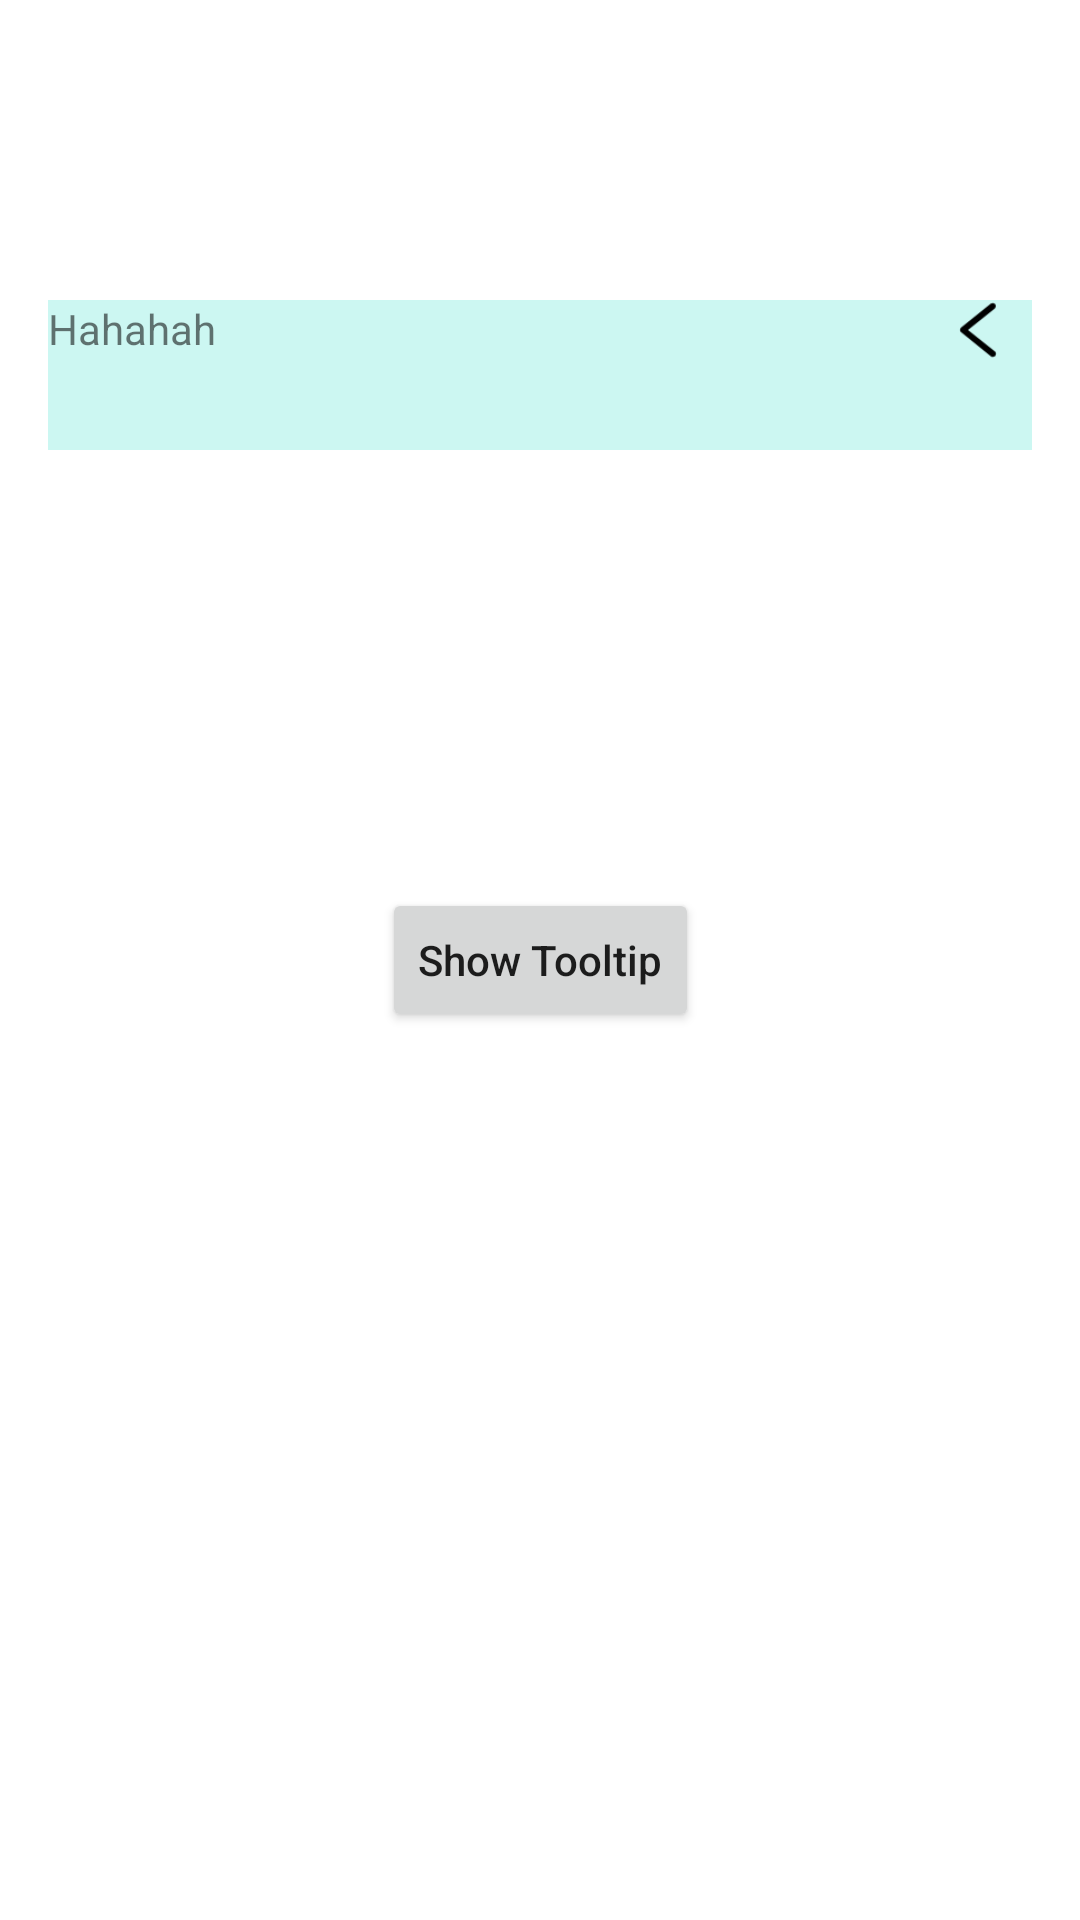

Icon click points for this 1080 x 1920 phone screenshot, format (x,y):
back: (978,330)
